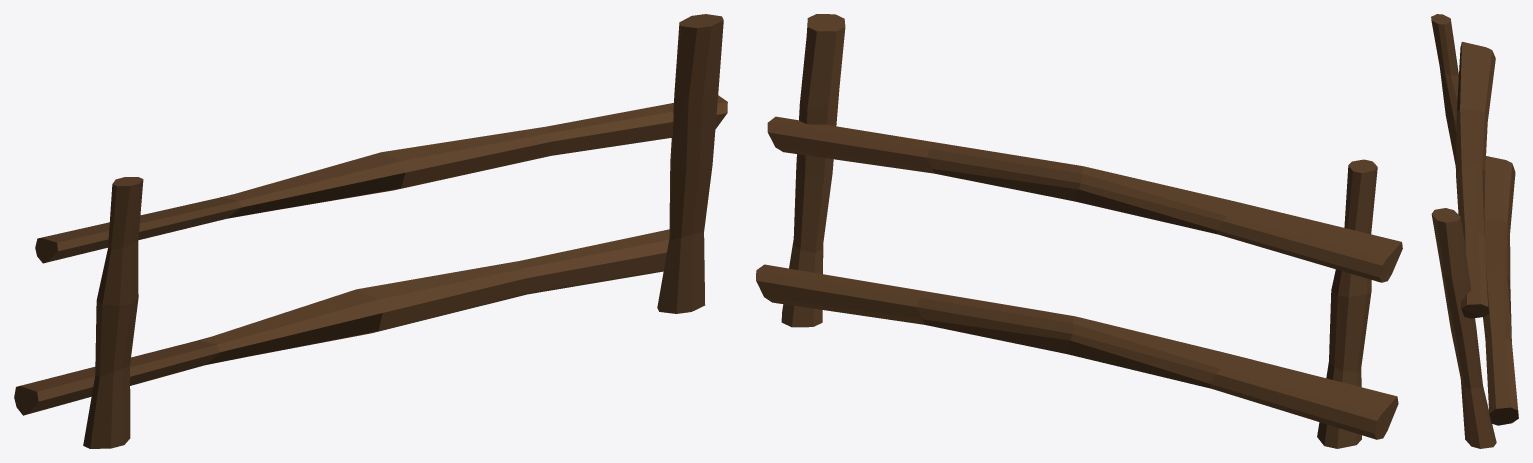
The model's file is woodenFence_01.fbx.
3 views of the same model, side by side, from view 1: azimuth 30°, elevation 25°; view 2: azimuth 150°, elevation 25°; view 3: azimuth 270°, elevation 25° (orthographic). The views are drawn at different scales.
Parts seen in each view (by area): view 1: wooden fence.013; view 2: wooden fence.013; view 3: wooden fence.013.
Boxes of the visible parts, bbox=[...] form: wooden fence.013: bbox=[14, 14, 727, 448]; wooden fence.013: bbox=[756, 14, 1402, 448]; wooden fence.013: bbox=[1431, 14, 1518, 448].
Bounding box in the file's own units: 1562 × 673 × 235.
